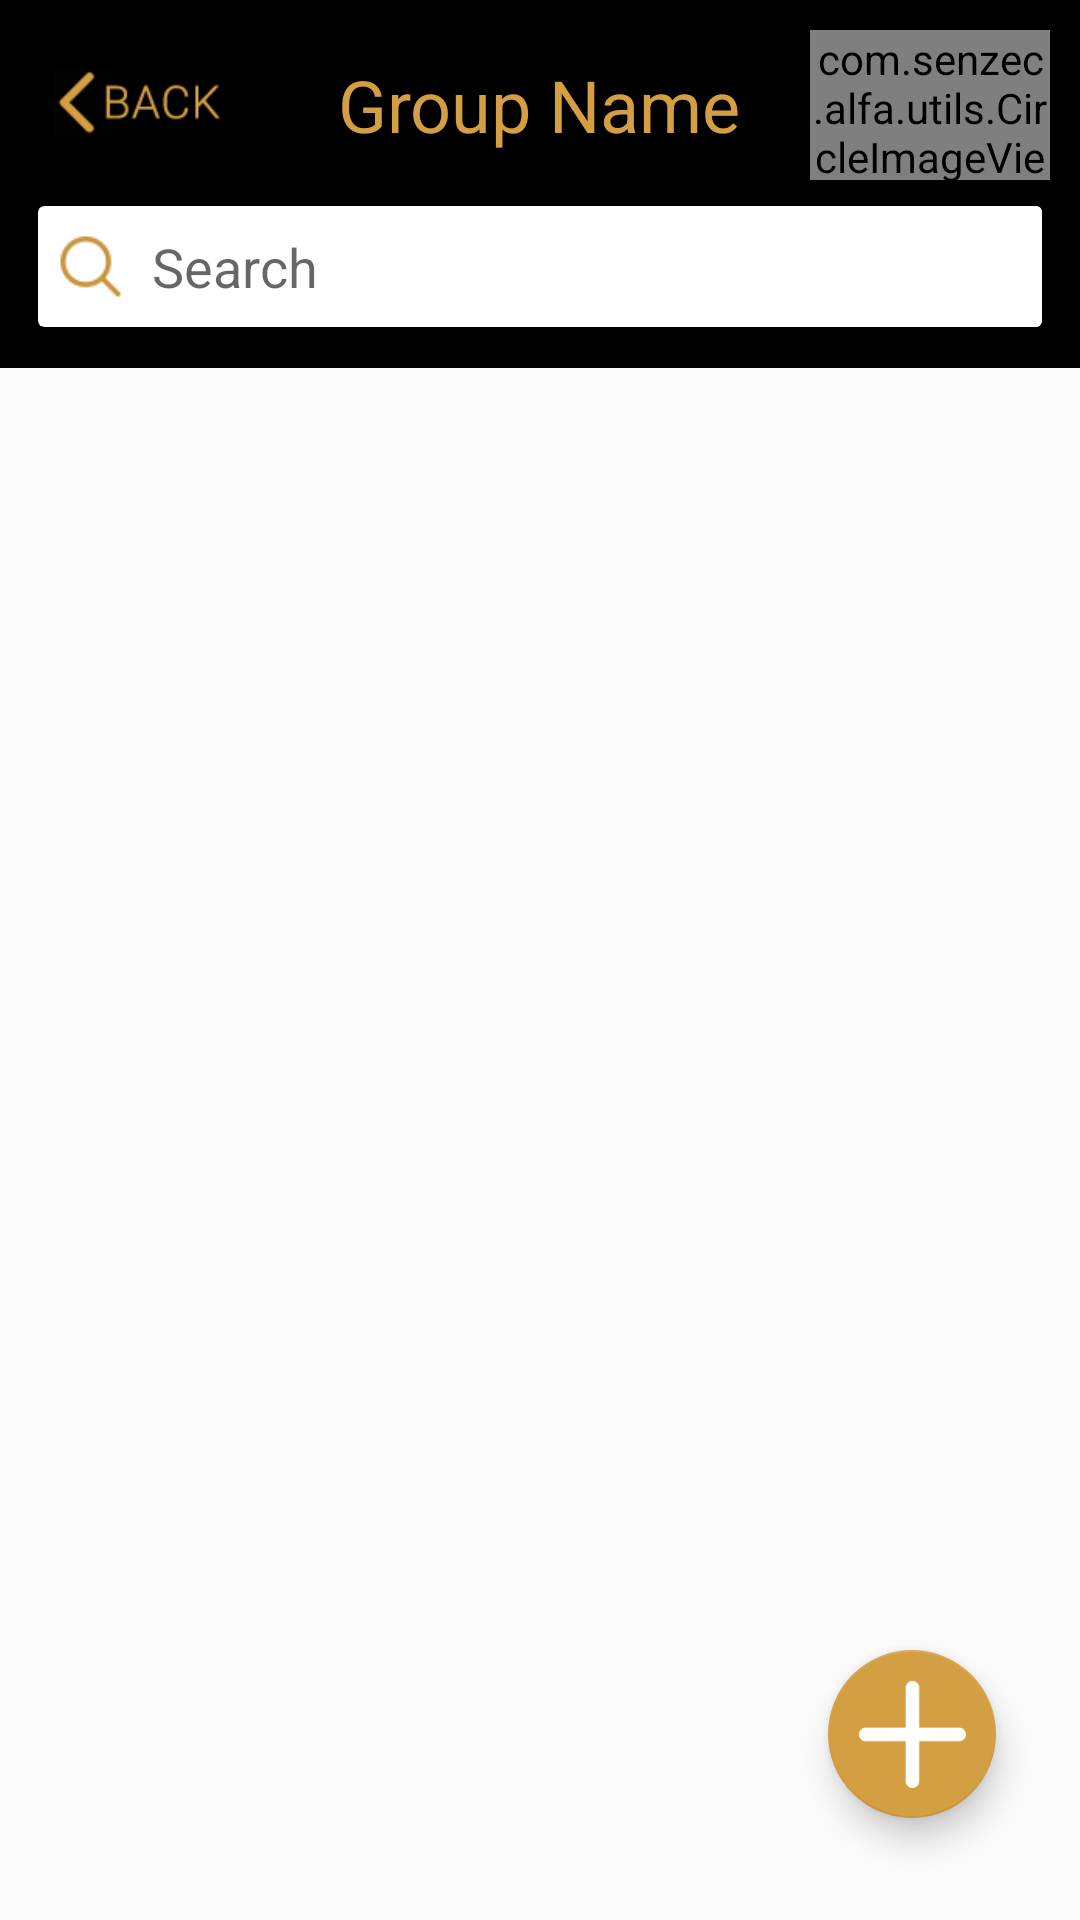

Named icons in this screenshot (1080w x 1920h) and their bounding boxes, (x1, y1, x2, y2):
add: (828, 1650, 998, 1835)
